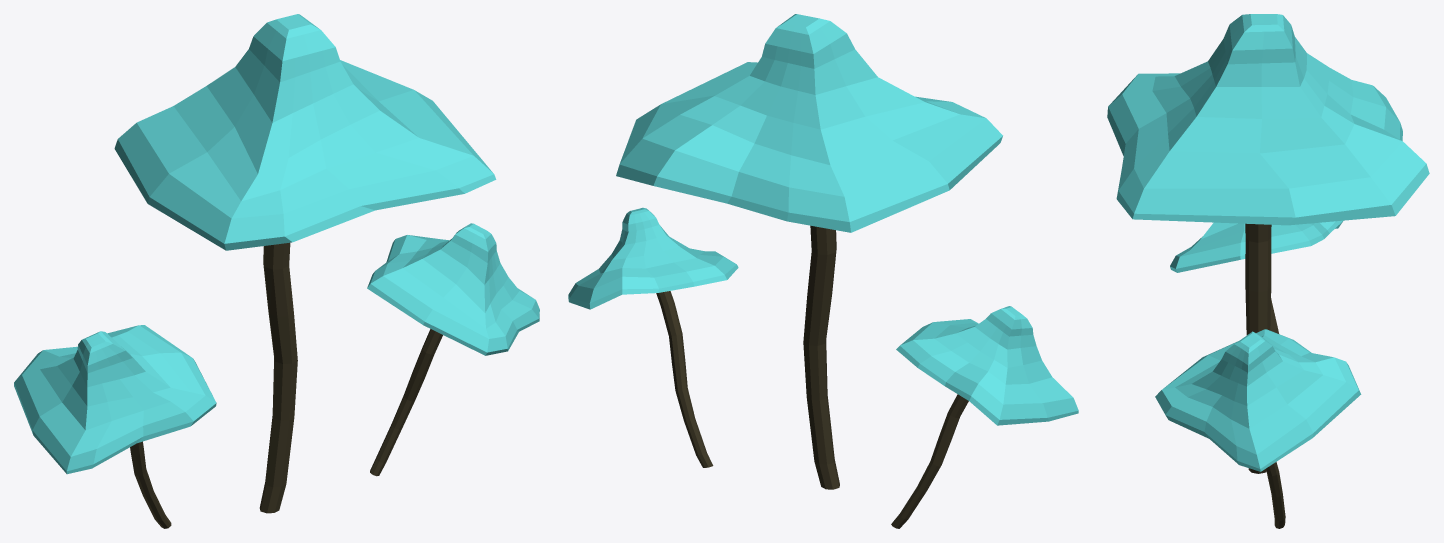
Rendered from ChampiIlluminati.FBX.
3 views of the same model, side by side, from view 1: azimuth 30°, elevation 25°; view 2: azimuth 150°, elevation 25°; view 3: azimuth 270°, elevation 25° (orthographic). The views are drawn at different scales.
Parts seen in each view (by area): view 1: Pyramid001, Pyramid003, Pyramid002, Cylinder007, Cylinder008, Cylinder009; view 2: Pyramid001, Pyramid003, Pyramid002, Cylinder007, Cylinder008, Cylinder009; view 3: Pyramid001, Pyramid002, Pyramid003, Cylinder007, Cylinder008.
Boxes of the visible parts, x1=… form: Pyramid001: x1=114, y1=14, x2=496, y2=250; Pyramid003: x1=14, y1=325, x2=216, y2=474; Pyramid002: x1=367, y1=223, x2=539, y2=355; Cylinder007: x1=259, y1=242, x2=297, y2=513; Cylinder008: x1=370, y1=329, x2=442, y2=476; Cylinder009: x1=130, y1=441, x2=171, y2=528; Pyramid001: x1=616, y1=14, x2=1002, y2=232; Pyramid003: x1=896, y1=306, x2=1078, y2=425; Pyramid002: x1=568, y1=207, x2=738, y2=309; Cylinder007: x1=803, y1=225, x2=839, y2=489; Cylinder008: x1=656, y1=291, x2=713, y2=467; Cylinder009: x1=891, y1=394, x2=968, y2=528; Pyramid001: x1=1107, y1=14, x2=1429, y2=225; Pyramid002: x1=1155, y1=329, x2=1361, y2=471; Pyramid003: x1=1170, y1=220, x2=1343, y2=272; Cylinder007: x1=1245, y1=223, x2=1271, y2=473; Cylinder008: x1=1265, y1=462, x2=1285, y2=528.
Size of the model in its own units: 0.4605 by 0.428 by 0.2643.
